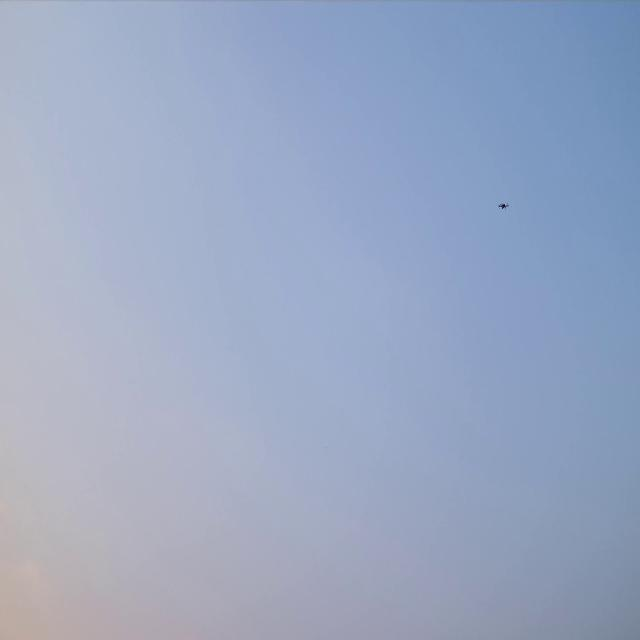UAV: (498, 204, 508, 208)
